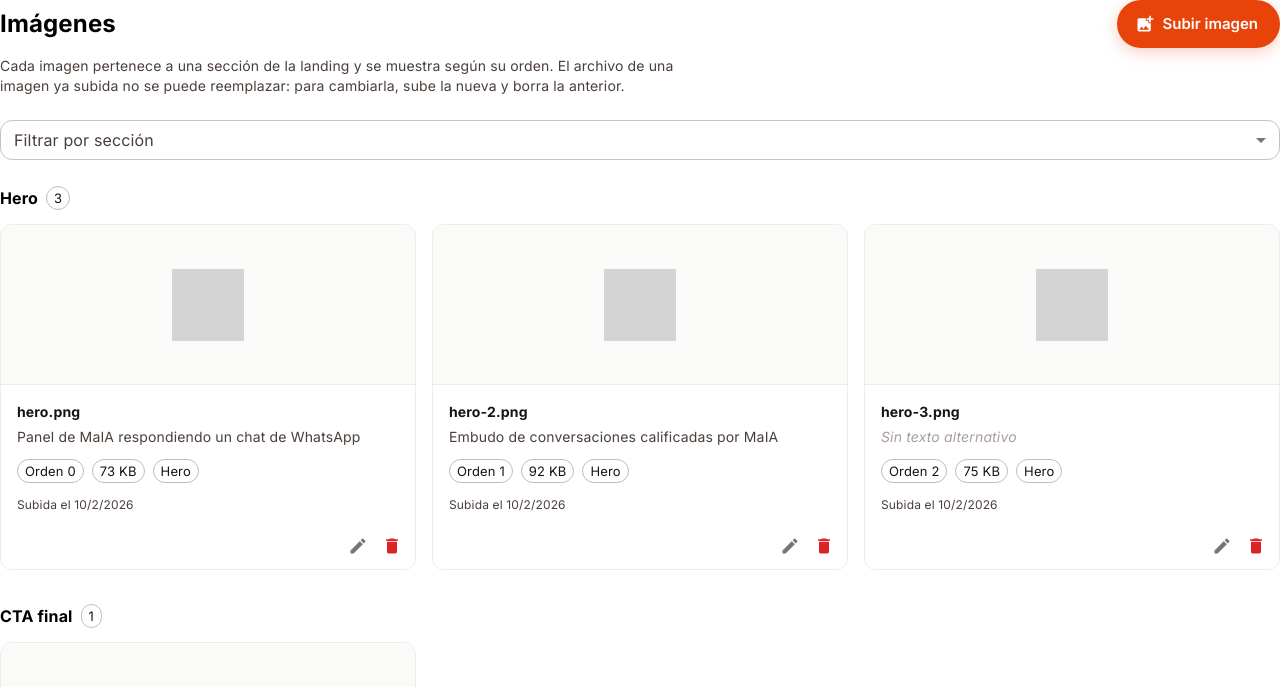
Scenario: ImagesGrid — edición › un 422 del PATCH marca el campo que señala el backend
Expected: the heading "hero.png" is shown, [17,403,80,420]
Click the button named "Editar hero.png".
click(358, 546)  # box [343,531,373,561]
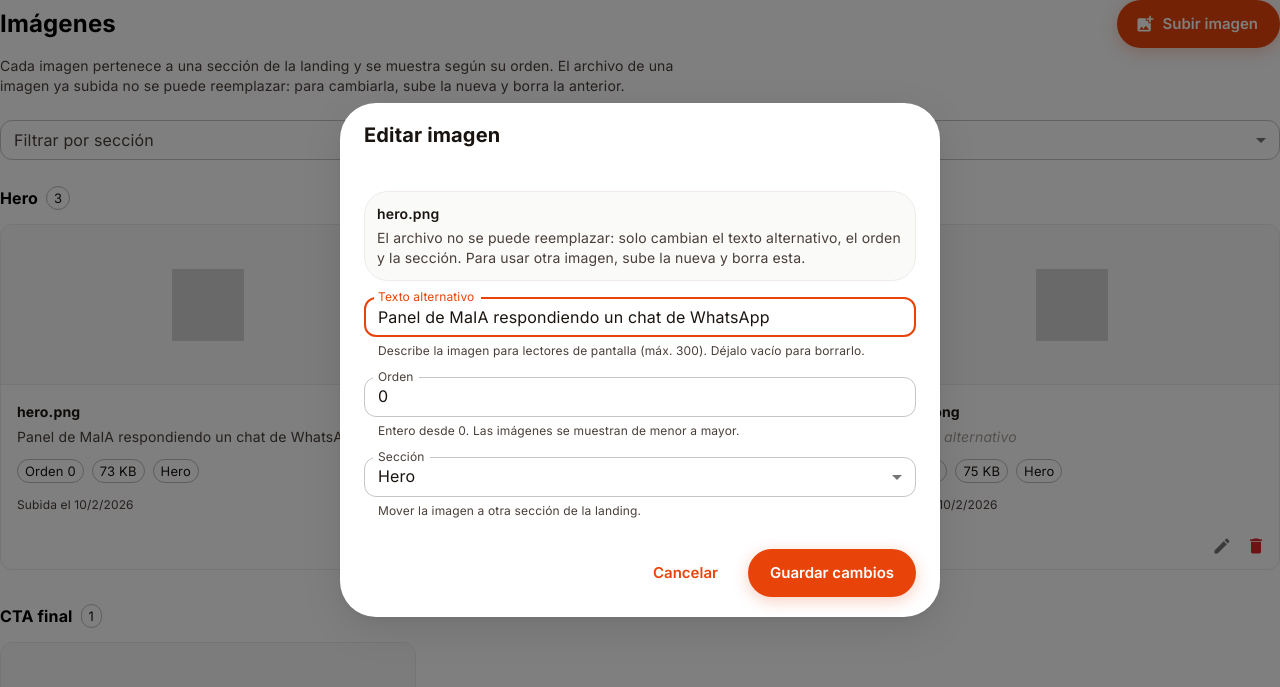
Replace the text in the field labelled "Texto alternativo" with "Otro alt" at x=640, y=317, box [364,297,916,337]
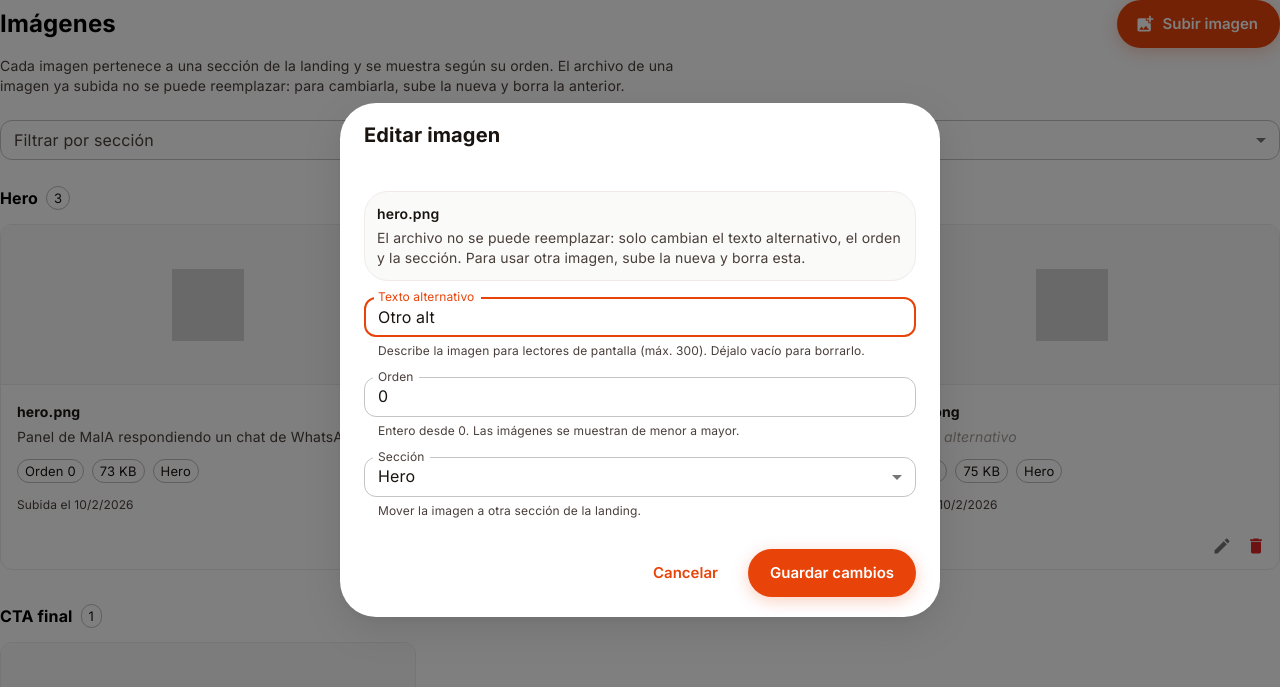
Click the button "Guardar cambios".
click(832, 573)  # box [748,549,916,597]
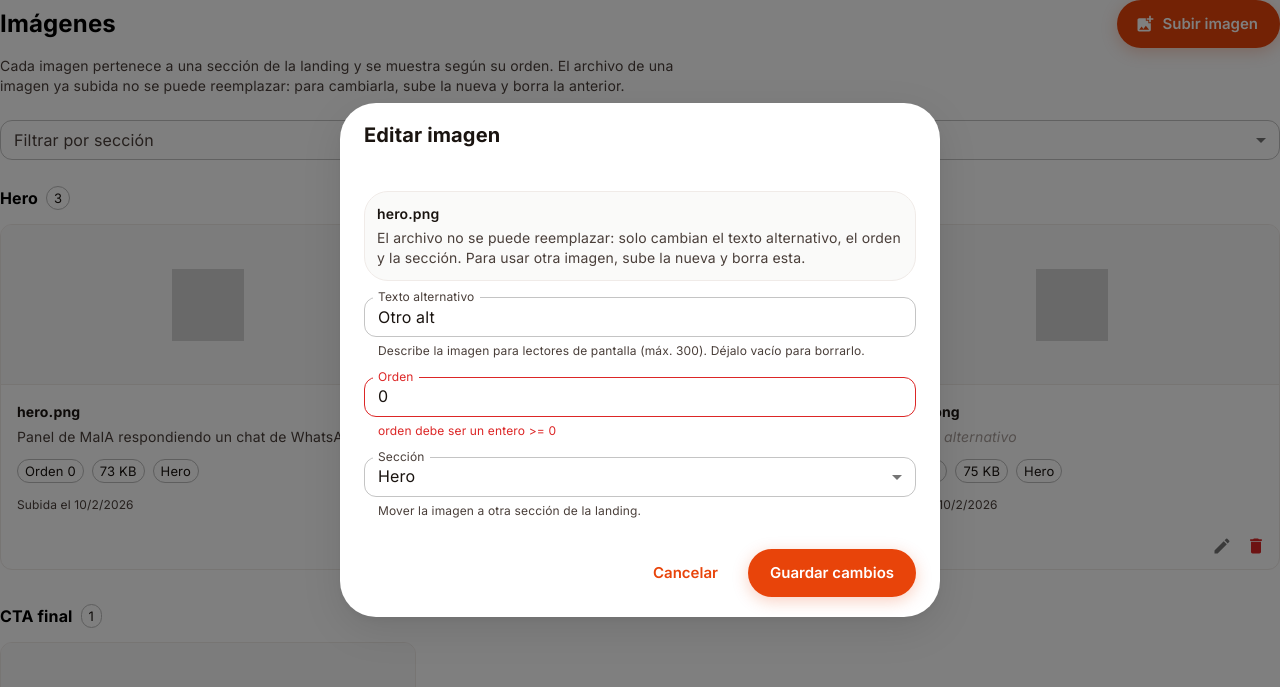
Expected: the text "orden debe ser un entero >= 0" is shown, [378,423,556,438]
